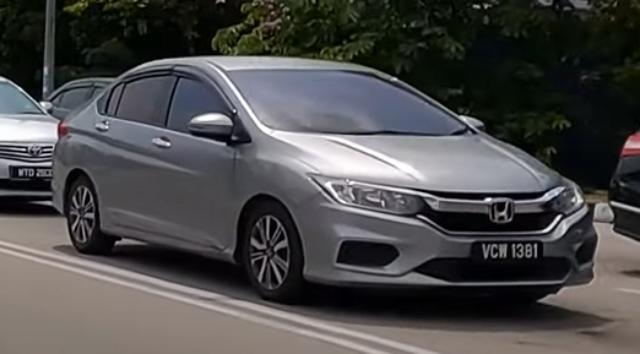License_Plate: (472, 239, 544, 265)
car: (50, 56, 600, 307)
